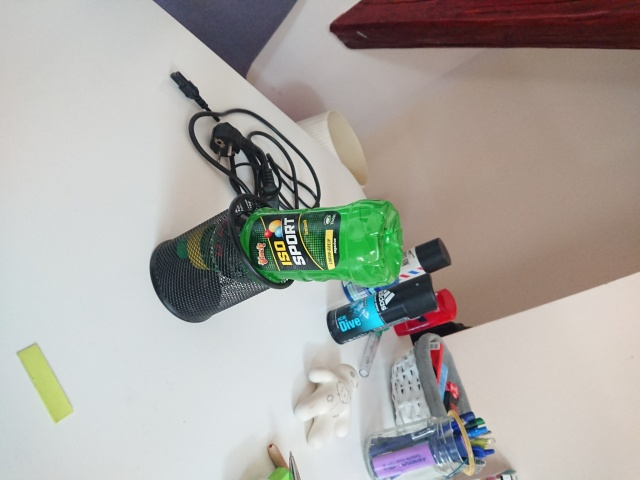Vindi Iso Sport Lemon-Grapefruit 500mL: (173, 196, 406, 290)
